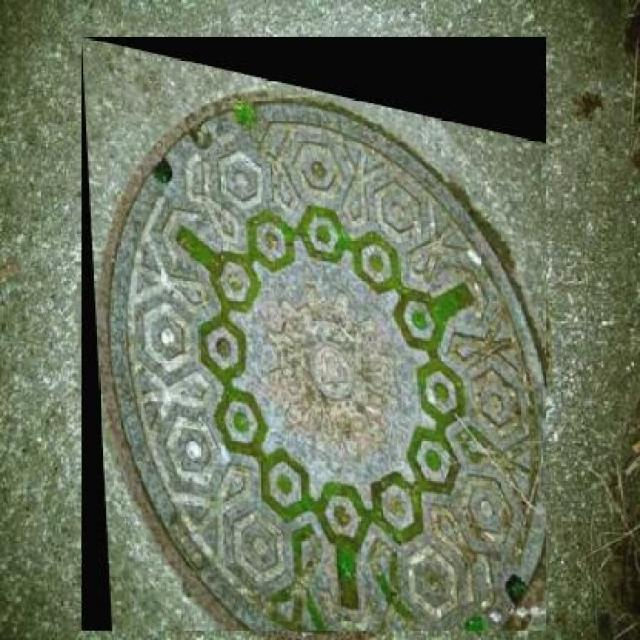Manhole: (81, 38, 546, 632)
